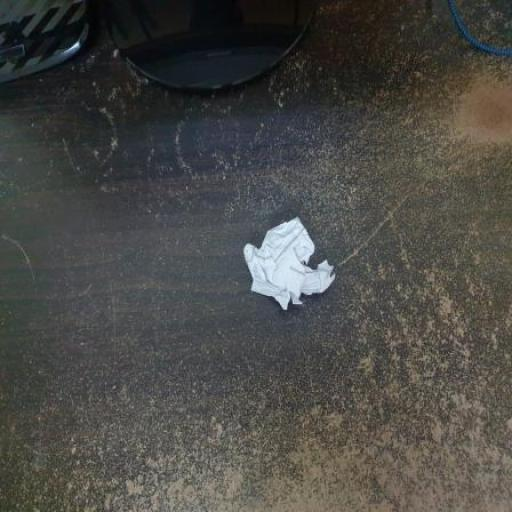paper: (222, 201, 366, 345)
